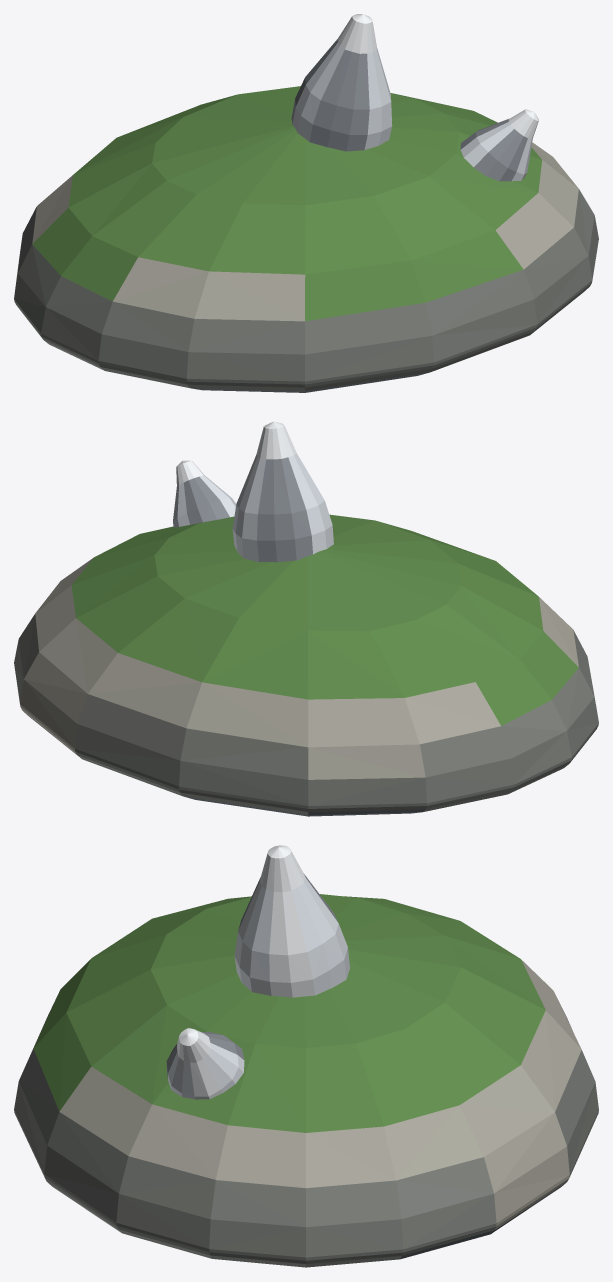
File: OreVein1Far.obj
3 views of the same model, one above another, from view 1: azimuth 30°, elevation 25°; view 2: azimuth 150°, elevation 25°; view 3: azimuth 270°, elevation 25° (orthographic). The views are drawn at different scales.
Size of the model in its own units: 3.81 by 2.08 by 3.18.
